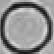no answer: (1, 2, 53, 54)
